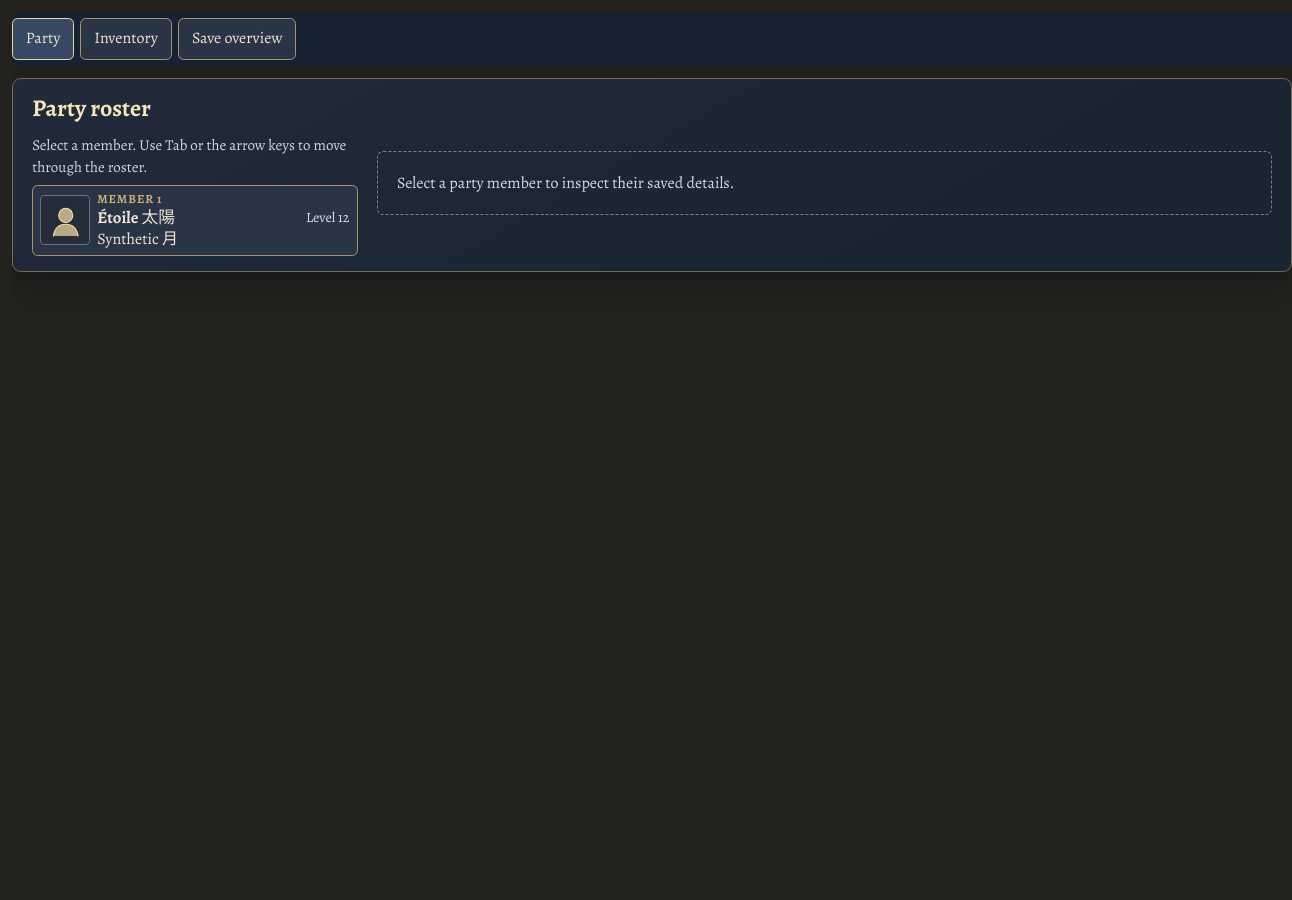
Test case: selected unit detail tabs › passive labels and plain descriptions do not assert learned state or commands
Step 1. Click the button "Member 1 Étoile 太陽 Synthetic 月 Level 12" → point(65, 220), box [32,185,358,256]
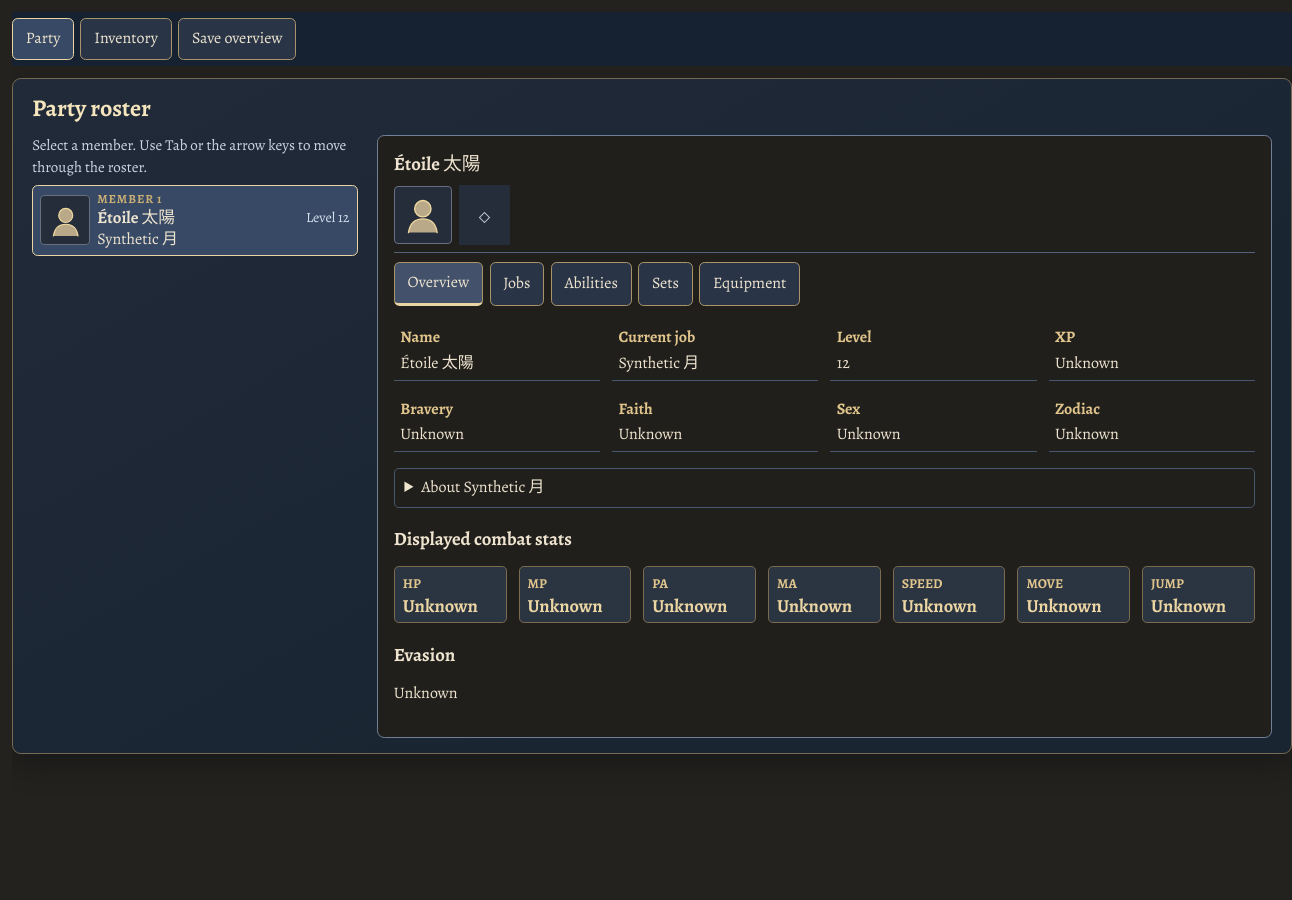
Step 2. Click the tab "Abilities" → point(591, 284), box [551,262,632,306]
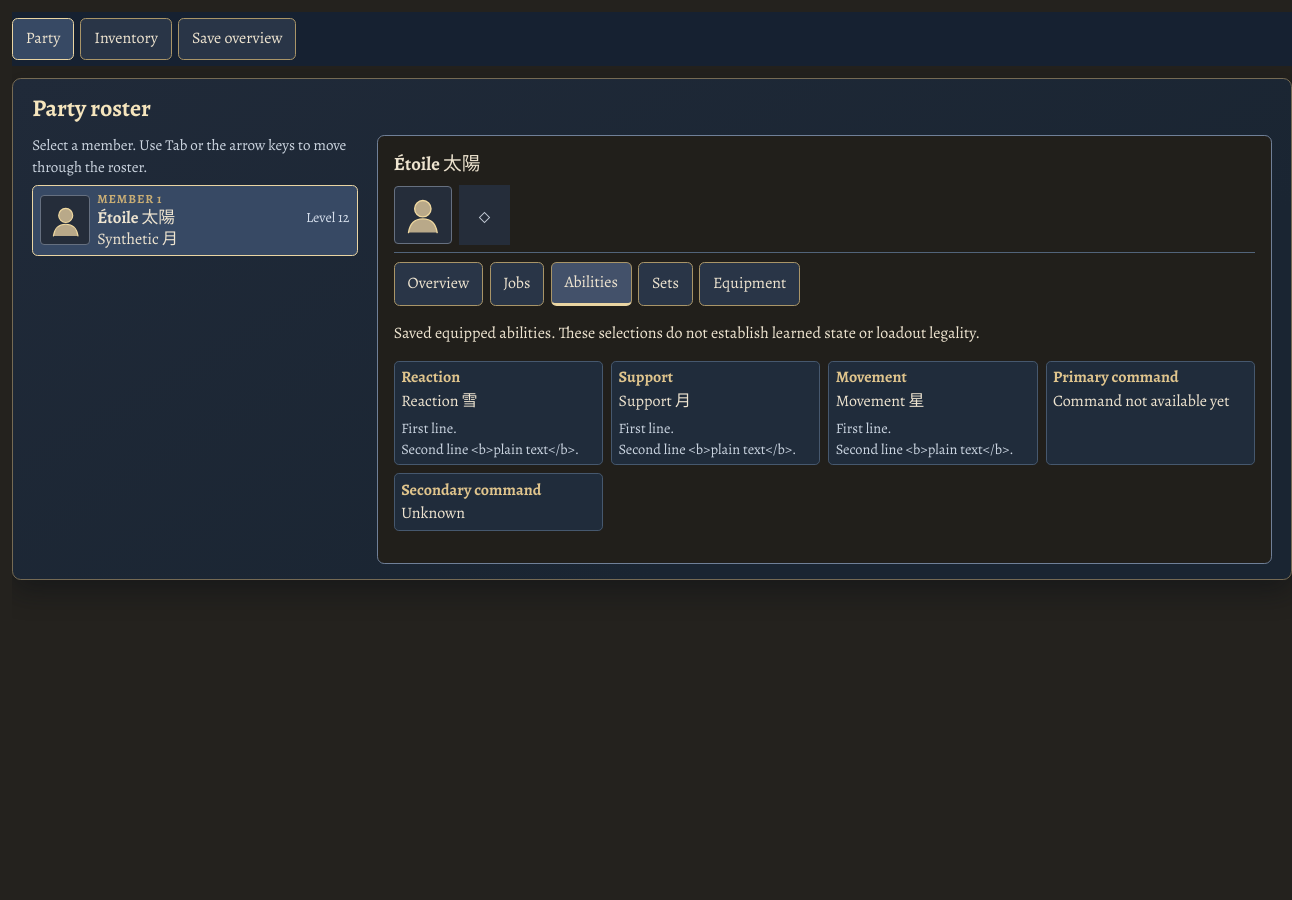
Check: the text "Reaction 雪" is shown, box [401,390,478,413]
Check: the text "Support 月" is shown, box [618,390,691,413]
Check: the text "Movement 星" is shown, box [836,390,924,413]
